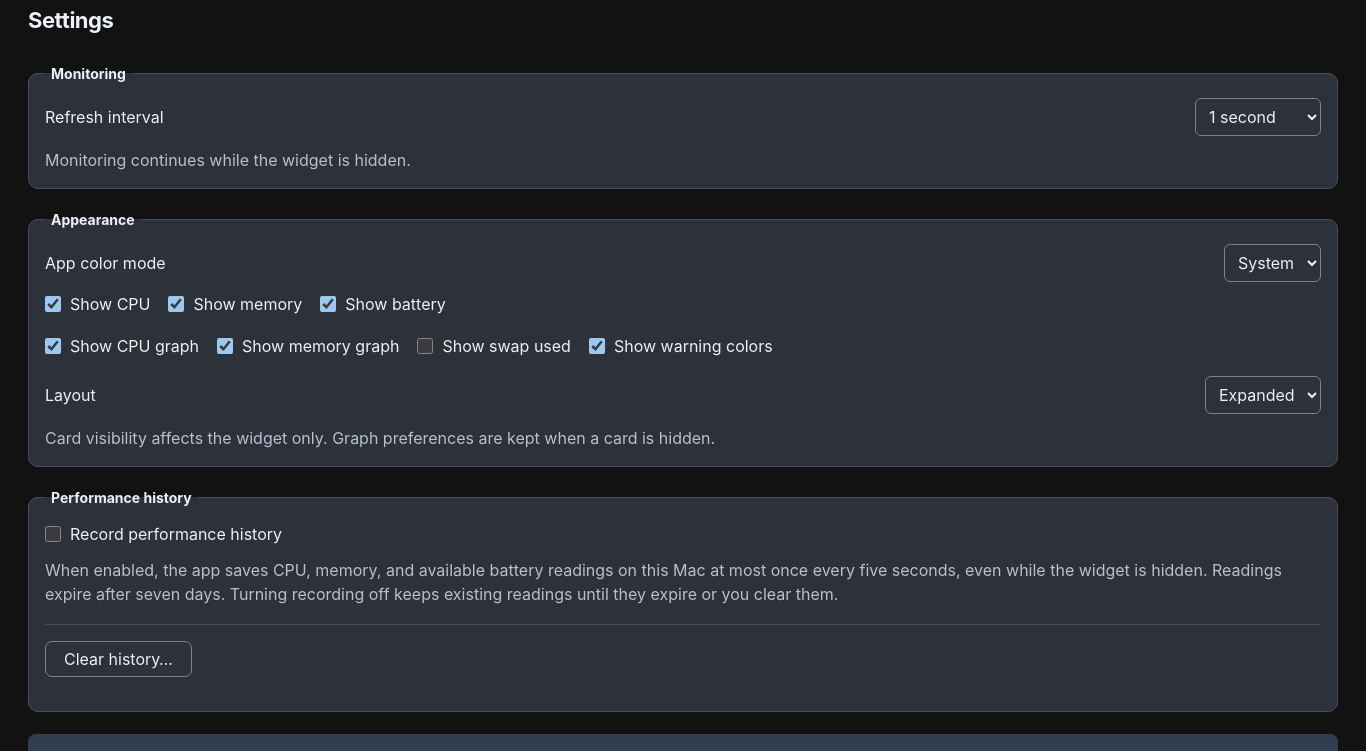
Scenario: Settings window › history recording defaults off and only changes after applying
This screenshot has width=1366, height=751.
Expected: the dropdown labelled "Refresh interval" is shown, [1195,98,1321,136]
Step 1. Click the checkbox labelled "Record performance history" → [53, 534], box [45,526,61,542]
(page scrolled)
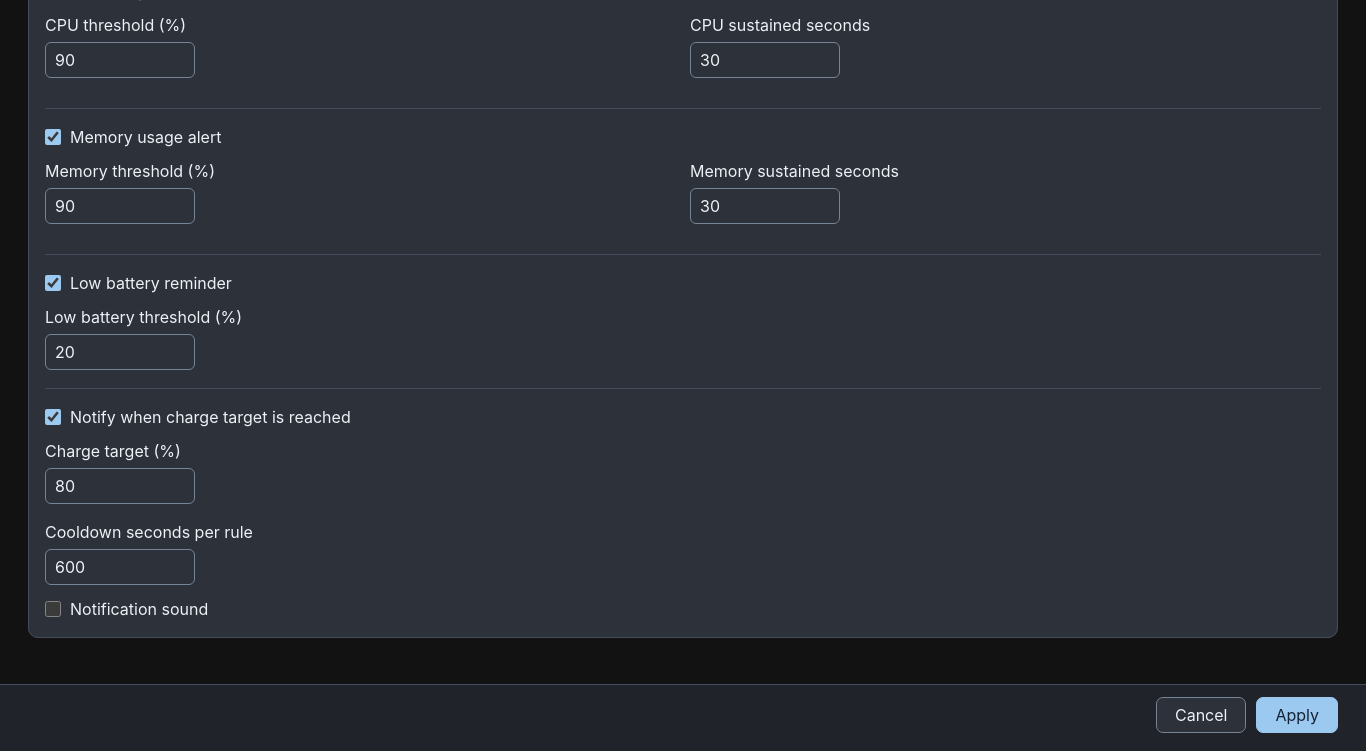
Step 2. Click the button "Apply" → [1297, 715], box [1256,697,1338,733]
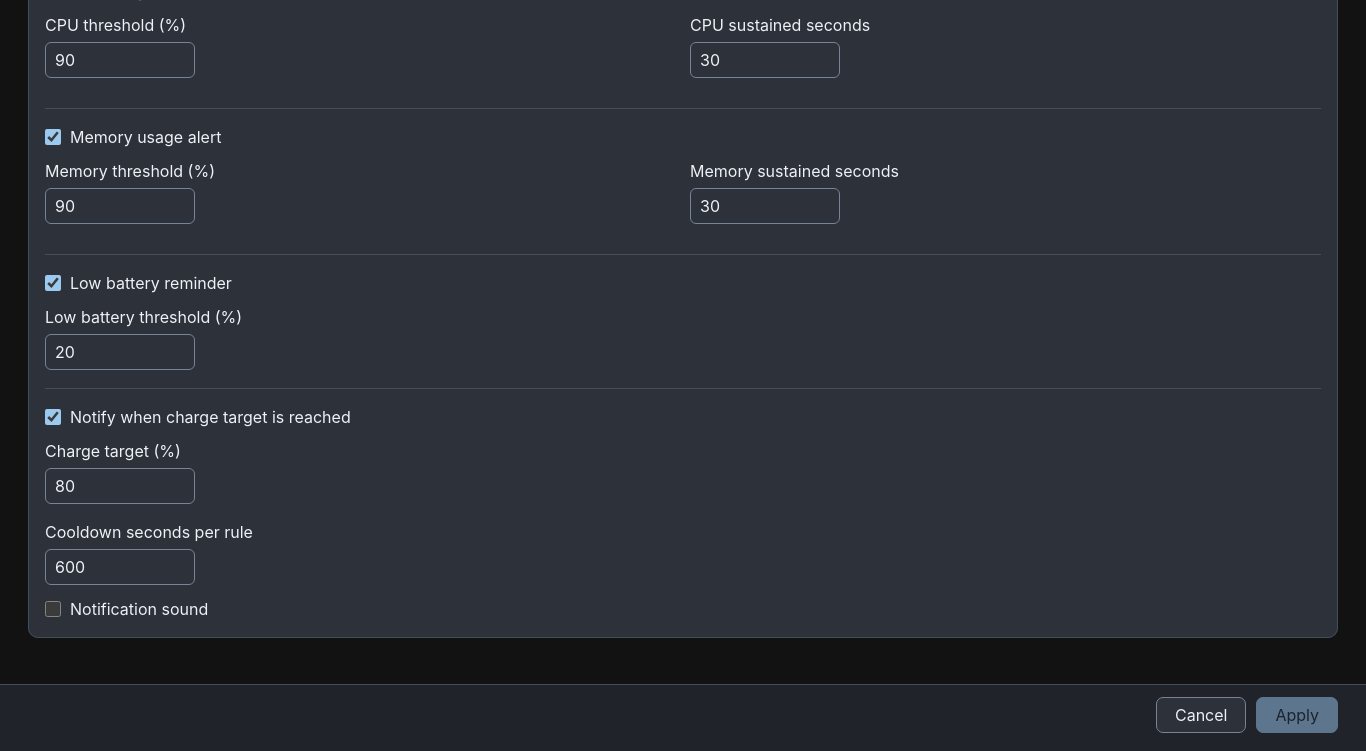
Now the button "Apply" is disabled, box [1256,697,1338,733]
